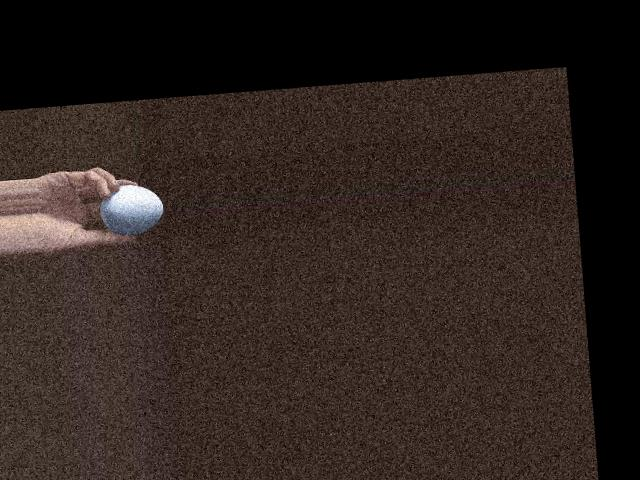egg: (98, 181, 165, 236)
